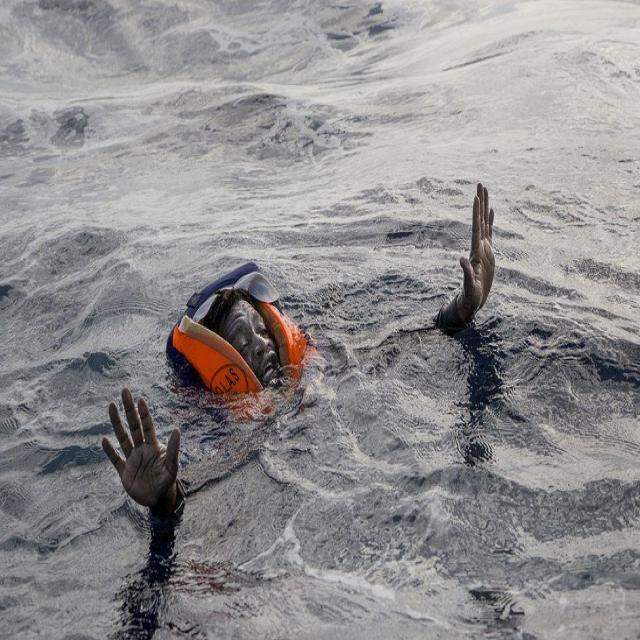Out of Water: (102, 175, 506, 543)
